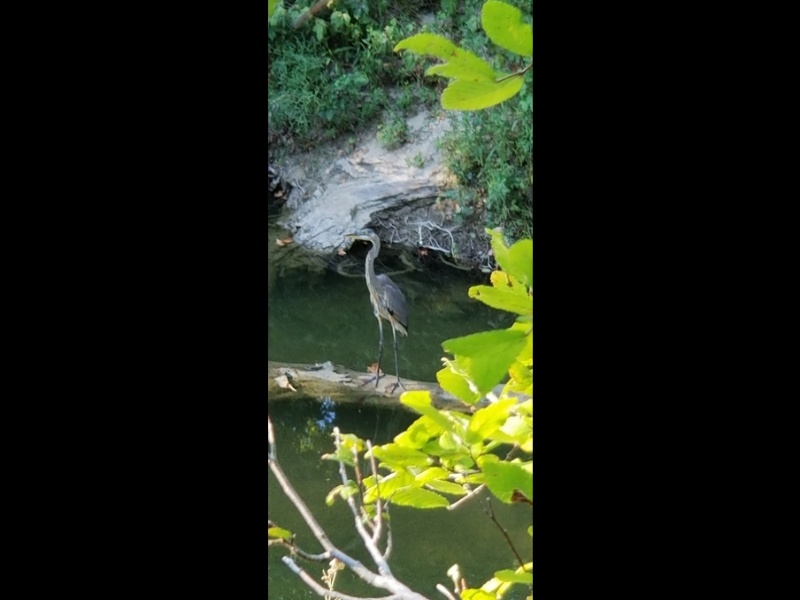heron: (341, 223, 415, 404)
